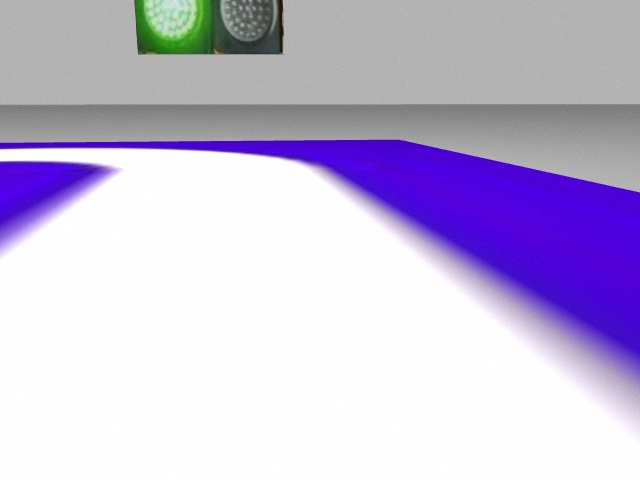green: (134, 1, 213, 53)
